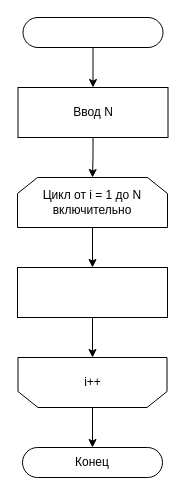
This 186x495 diagram has some shape labels left out. Each missing label, with the centre of its shape:
Вывод i: point (92, 292)
Начало: point (92, 32)
